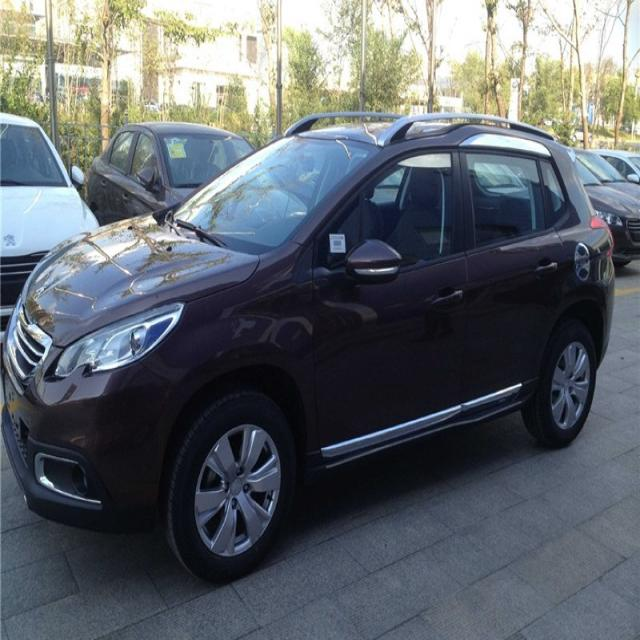back_left_side_light: (589, 211, 616, 259)
door: (453, 139, 572, 397)
front_bumper: (2, 298, 171, 533)
front_glass: (166, 134, 384, 256)
front_left_side_door: (308, 141, 474, 445)
front_left_side_light: (46, 298, 186, 384)
front_left_side_mirror: (338, 236, 402, 283)
wheel: (179, 406, 295, 582), (522, 327, 595, 447)
